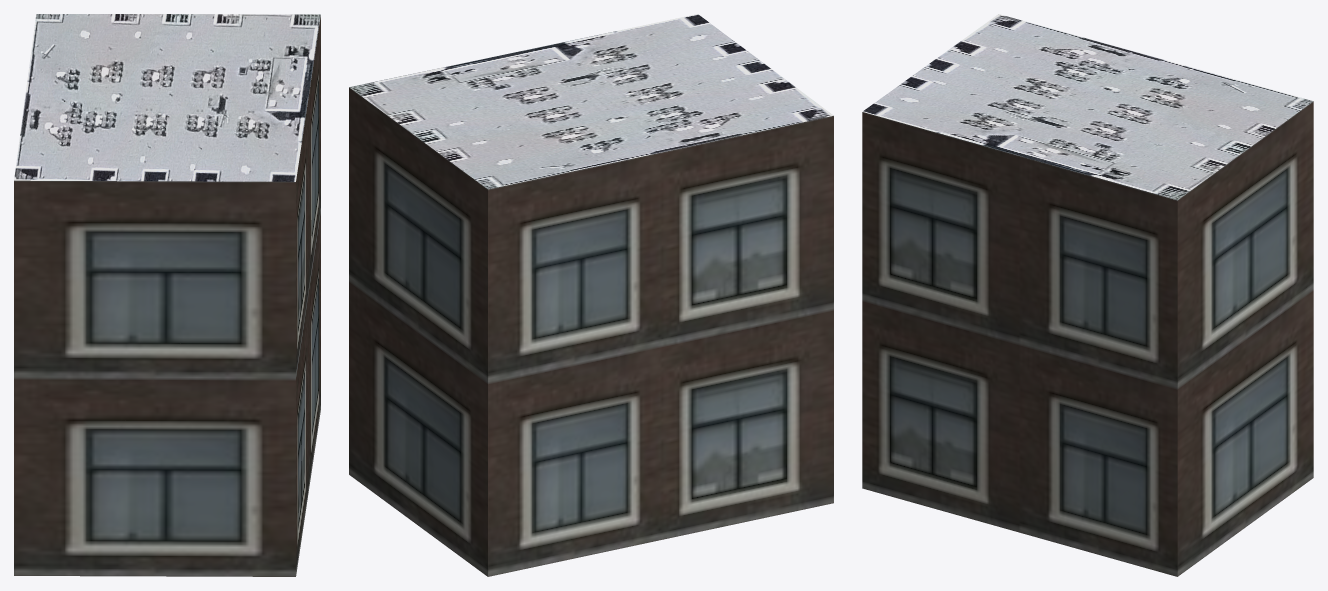
The model's file is ResTex__3129.fbx.
3 views of the same model, side by side, from view 1: azimuth 30°, elevation 25°; view 2: azimuth 150°, elevation 25°; view 3: azimuth 270°, elevation 25° (orthographic). The views are drawn at different scales.
Parts seen in each view (by area): view 1: CityEngineMaterial_16_m, CityEngineMaterial_15_m; view 2: CityEngineMaterial_16_m, CityEngineMaterial_15_m; view 3: CityEngineMaterial_16_m, CityEngineMaterial_15_m.
Part boxes in pixels (x1,y1,x2,y2): CityEngineMaterial_16_m: (14,15,320,576); CityEngineMaterial_15_m: (14,14,320,181); CityEngineMaterial_16_m: (349,87,833,576); CityEngineMaterial_15_m: (349,14,833,189); CityEngineMaterial_16_m: (862,101,1313,576); CityEngineMaterial_15_m: (862,14,1313,200).
Size of the model in its own units: 6.37 by 6 by 6.52.
2 materials, 2 textured.
